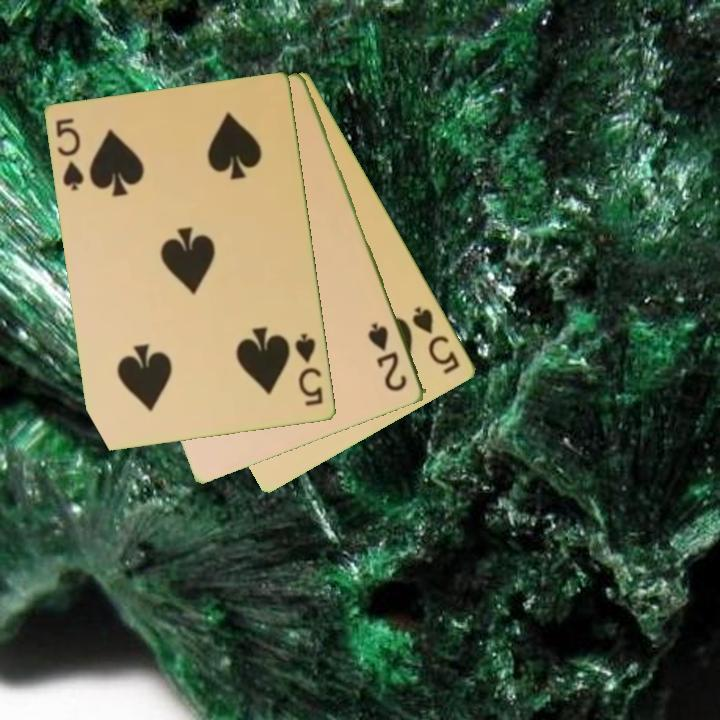2s: (364, 319, 411, 395)
5s: (409, 303, 464, 378), (292, 330, 327, 410), (53, 115, 87, 194)
